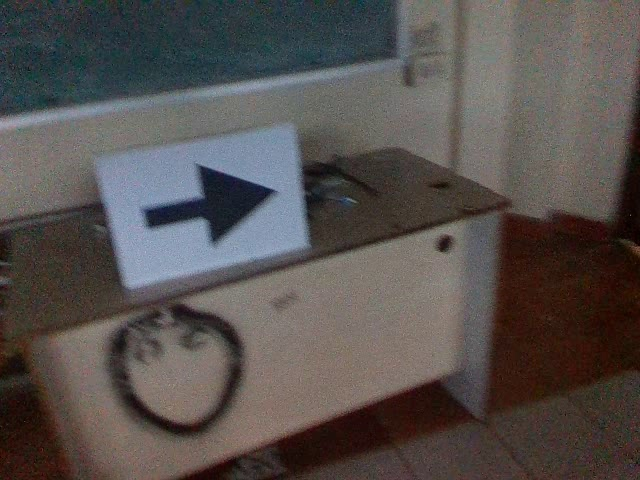Right: (132, 160, 284, 251)
